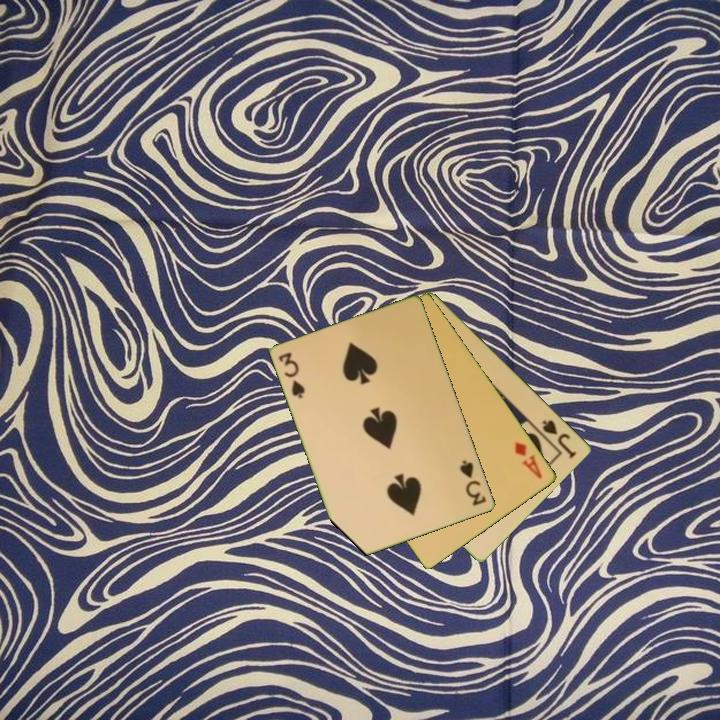3s: (456, 457, 489, 509), (275, 349, 308, 401)
Ad: (511, 438, 545, 482)
Js: (538, 416, 580, 461)
